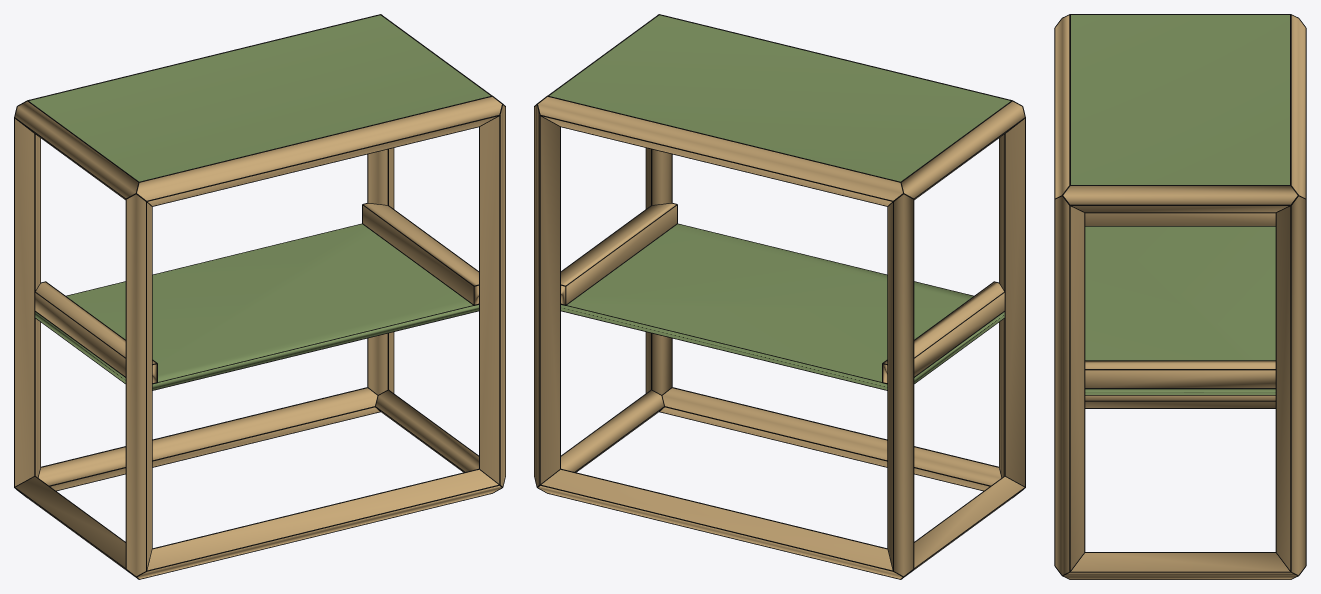
File: bureau-800.glb
3 renders of one model, left to right at view 1: azimuth 30°, elevation 25°; view 2: azimuth 150°, elevation 25°; view 3: azimuth 270°, elevation 25°, orthographic.
Parts seen in each view (by area): view 1: panneau-dessus_exterieur, tablette-plate-mod-0, arete-X2, arete-Z1, arete-Z0, arete-X0, arete-Z2, arete-X1, tablette-traverse-right-mod-0, tablette-traverse-left-mod-0, arete-Y2, arete-Z3 (+13 smaller); view 2: panneau-dessus_exterieur, tablette-plate-mod-0, arete-X3, arete-Z3, arete-Z2, arete-X1, arete-Z0, arete-X0, tablette-traverse-right-mod-0, tablette-traverse-left-mod-0, arete-Y2, arete-Z1 (+13 smaller); view 3: panneau-dessus_exterieur, tablette-plate-mod-0, arete-Z1, arete-Z3, arete-Y3, arete-Y1, tablette-traverse-right-mod-0, arete-X2, arete-X3, arete-Y0, tablette-traverse-left-mod-0, arete-wire-Z1 (+8 smaller).
Part boxes in pixels (bbox=[...]): panneau-dessus_exterieur: bbox=[29, 15, 490, 181]; tablette-plate-mod-0: bbox=[35, 224, 478, 389]; arete-X2: bbox=[137, 97, 501, 205]; arete-Z1: bbox=[480, 105, 505, 486]; arete-Z0: bbox=[126, 194, 151, 576]; arete-X0: bbox=[137, 469, 501, 578]; arete-Z2: bbox=[15, 119, 40, 486]; arete-X1: bbox=[38, 388, 379, 490]; tablette-traverse-right-mod-0: bbox=[363, 203, 478, 304]; tablette-traverse-left-mod-0: bbox=[35, 282, 156, 382]; arete-Y2: bbox=[15, 101, 138, 199]; arete-Z3: bbox=[368, 148, 393, 394]; panneau-dessus_exterieur: bbox=[549, 15, 1010, 181]; tablette-plate-mod-0: bbox=[561, 224, 1004, 389]; arete-X3: bbox=[538, 97, 902, 205]; arete-Z3: bbox=[534, 105, 559, 486]; arete-Z2: bbox=[888, 194, 913, 576]; arete-X1: bbox=[538, 469, 902, 578]; arete-Z0: bbox=[999, 119, 1024, 486]; arete-X0: bbox=[660, 388, 1001, 490]; tablette-traverse-right-mod-0: bbox=[561, 203, 676, 304]; tablette-traverse-left-mod-0: bbox=[883, 282, 1004, 382]; arete-Y2: bbox=[901, 101, 1024, 199]; arete-Z1: bbox=[646, 148, 671, 394]; panneau-dessus_exterieur: bbox=[1071, 15, 1289, 184]; tablette-plate-mod-0: bbox=[1085, 226, 1275, 394]; arete-Z1: bbox=[1055, 196, 1084, 574]; arete-Z3: bbox=[1276, 196, 1305, 574]; arete-Y3: bbox=[1063, 186, 1297, 212]; arete-Y1: bbox=[1064, 553, 1296, 579]; tablette-traverse-right-mod-0: bbox=[1085, 361, 1275, 387]; arete-X2: bbox=[1055, 15, 1069, 198]; arete-X3: bbox=[1291, 15, 1305, 198]; arete-Y0: bbox=[1085, 395, 1275, 407]; tablette-traverse-left-mod-0: bbox=[1085, 213, 1275, 225]; arete-wire-Z1: bbox=[1054, 195, 1085, 572].
Bounding box in the file's own units: 0.8309 × 0.8309 × 0.4809.
